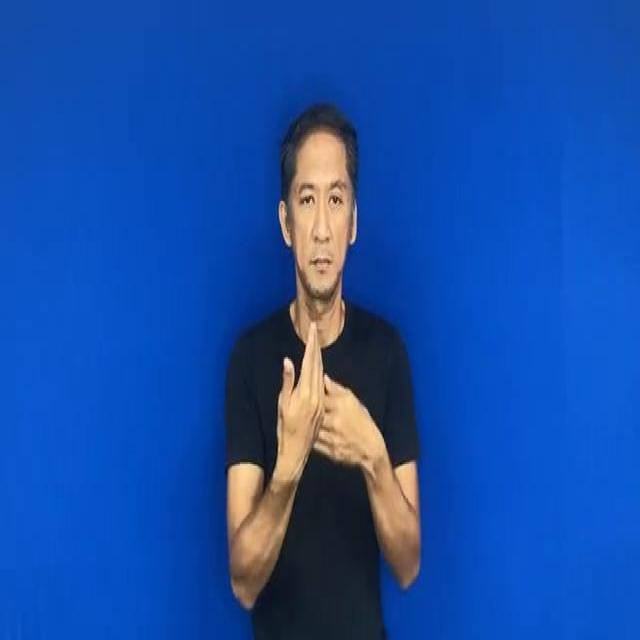bread: (268, 328, 395, 500)
